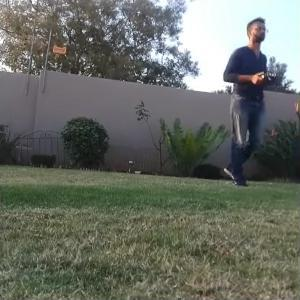follow: (216, 10, 280, 191)
